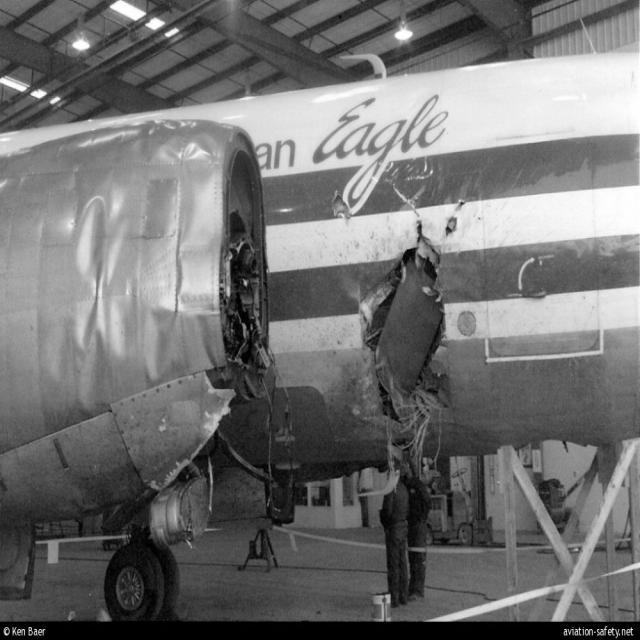dent: (35, 199, 189, 417)
